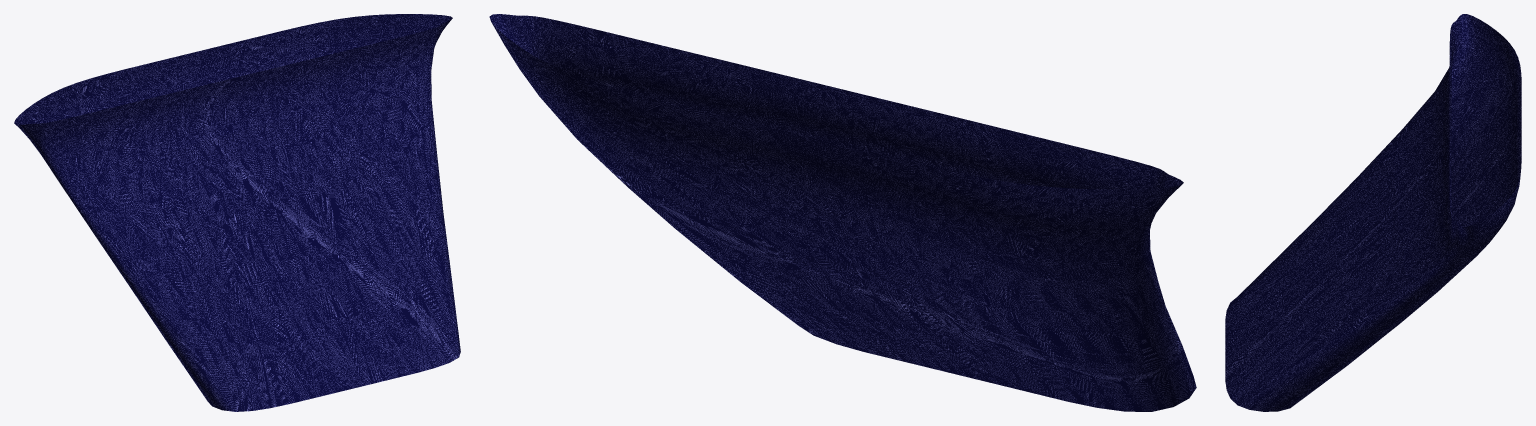
The model's file is original-13.obj.
The picture shows the model from 3 angles, left to right: view 1: azimuth 30°, elevation 25°; view 2: azimuth 150°, elevation 25°; view 3: azimuth 270°, elevation 25°; orthographic projection. The views are drawn at different scales.
Visible parts, largest first — view 1: mesh10/mesh10-geometry#mesh10-geometry; view 2: mesh10/mesh10-geometry#mesh10-geometry; view 3: mesh10/mesh10-geometry#mesh10-geometry.
Boxes of the visible parts, <box> form: mesh10/mesh10-geometry#mesh10-geometry: <box>14,14,460,411</box>; mesh10/mesh10-geometry#mesh10-geometry: <box>489,14,1196,411</box>; mesh10/mesh10-geometry#mesh10-geometry: <box>1225,14,1521,411</box>.
Bounding box in the file's own units: 0.4709 × 0.2415 × 0.2771.
